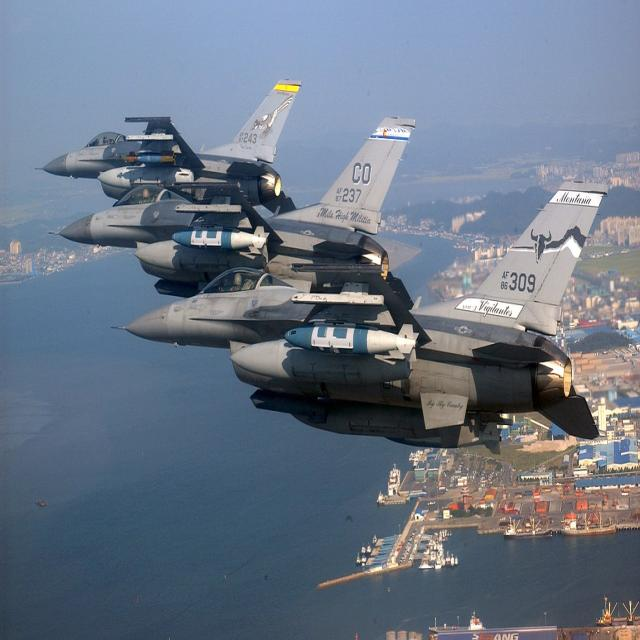MIL_Plane: (110, 175, 608, 455), (48, 113, 416, 310), (34, 77, 302, 216)
